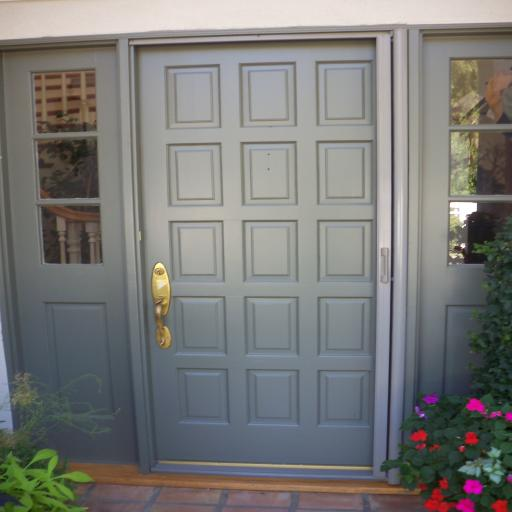Door: (135, 39, 378, 469)
